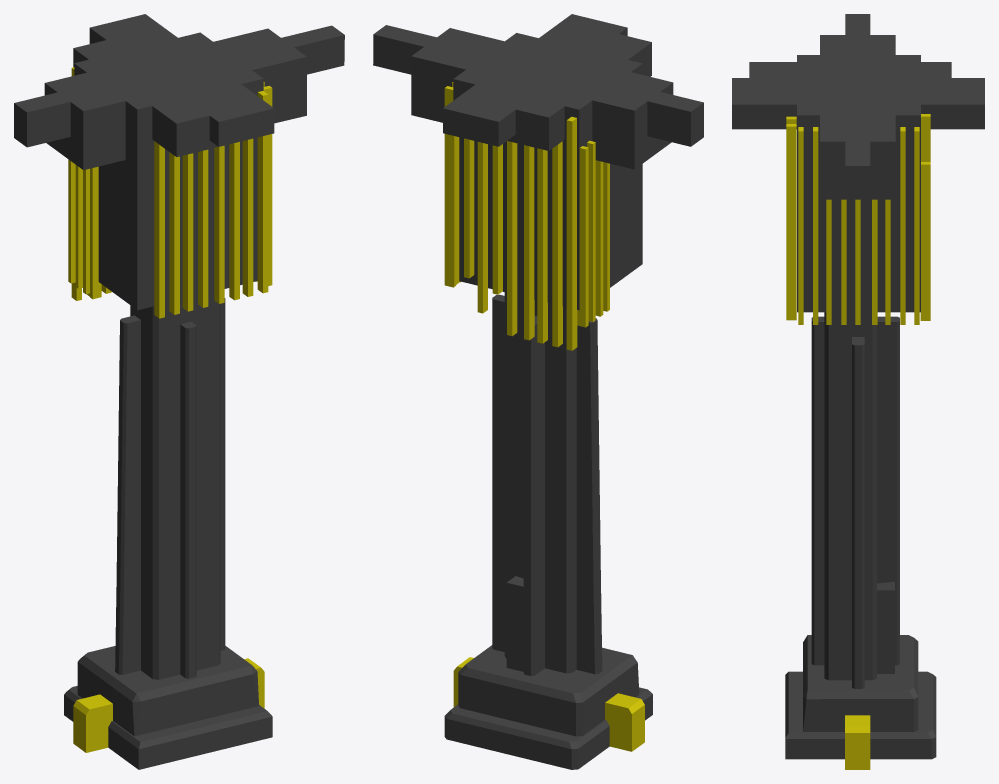
Rendered from temple_pillar ornate L.fbx.
The picture shows the model from 3 angles, left to right: view 1: azimuth 30°, elevation 25°; view 2: azimuth 150°, elevation 25°; view 3: azimuth 270°, elevation 25°; orthographic projection.
Parts seen in each view (by area): view 1: pilier_golden; view 2: pilier_golden; view 3: pilier_golden.
Part boxes in pixels (x1,y1,x2,y2): pilier_golden: [14, 14, 344, 769]; pilier_golden: [373, 14, 703, 769]; pilier_golden: [732, 14, 984, 769].
Bounding box in the file's own units: 84.77 × 167 × 59.58.
